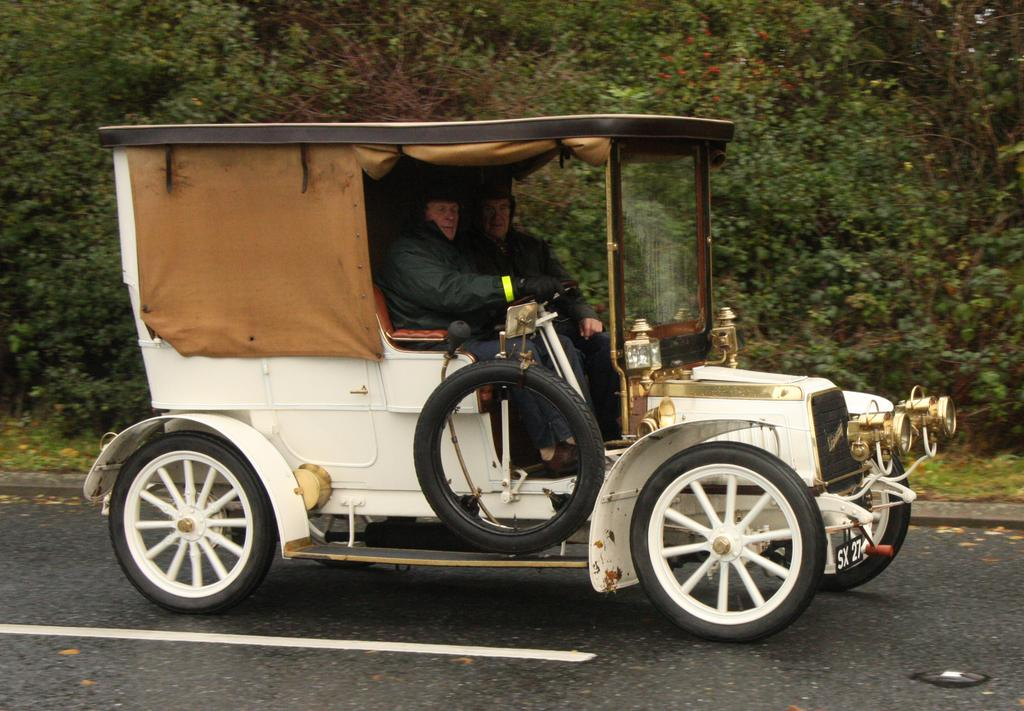Car: (84, 106, 965, 641)
